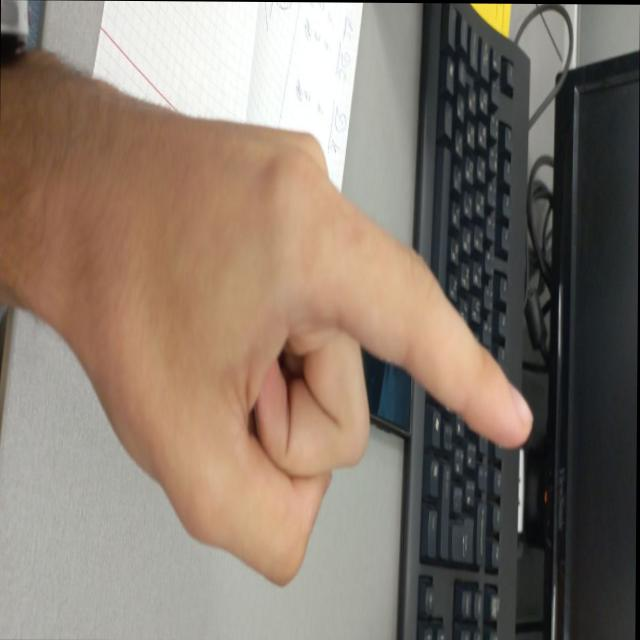z: (129, 104, 526, 621)
